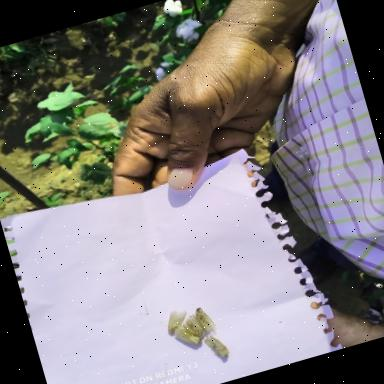abw: (172, 318, 203, 350), (162, 306, 194, 336), (192, 304, 218, 338), (204, 332, 232, 363), (180, 310, 208, 341)
